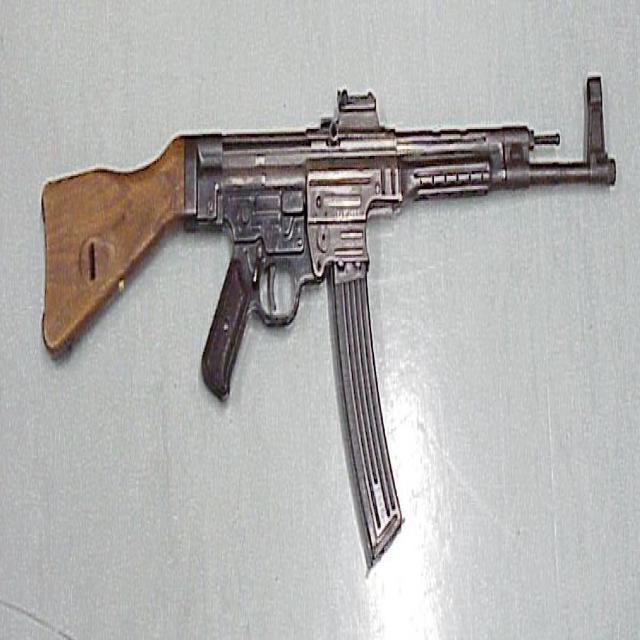rifle: (28, 39, 623, 601)
